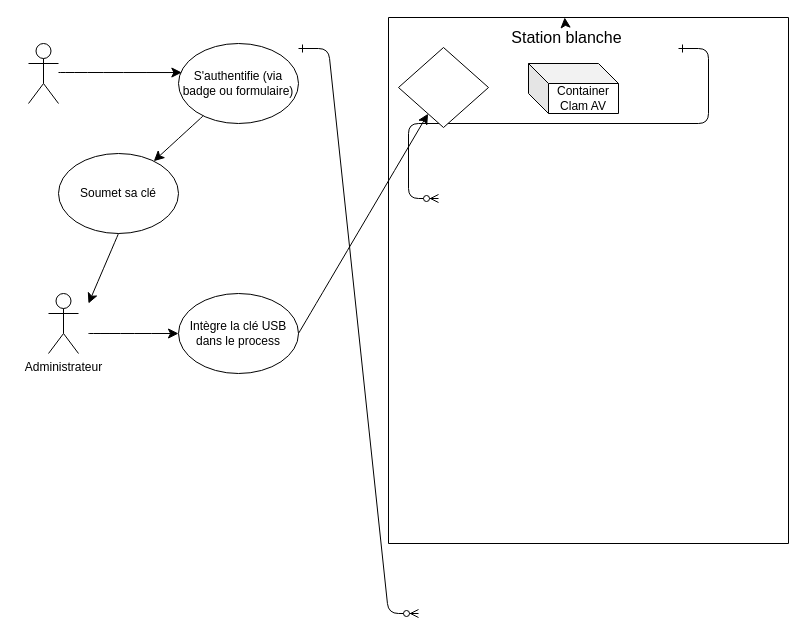
Image size: 806x640. Some labels were removed from this diagram. The box of each missing label's shape, as (x1, y1, x2, y2) in pixels:
Scan / Formatage: (398, 46, 488, 128)
Utilisateur: (28, 42, 58, 104)
